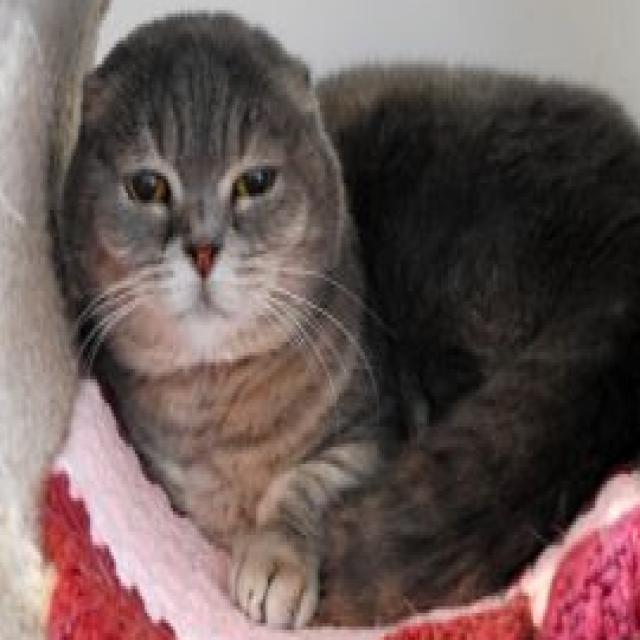Scottish Fold: (52, 4, 640, 634)
